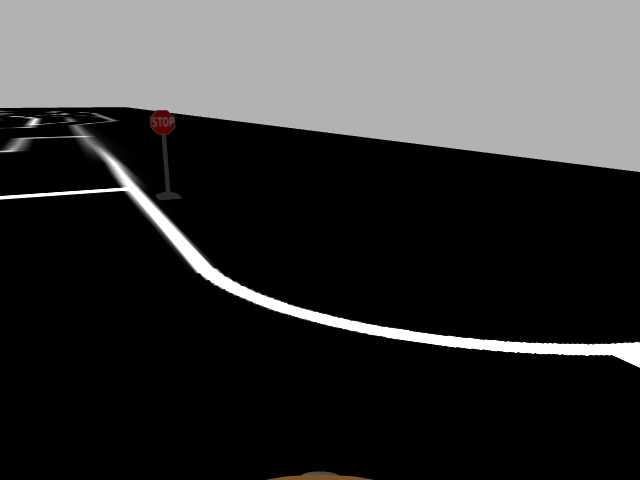stop: (148, 109, 177, 136)
